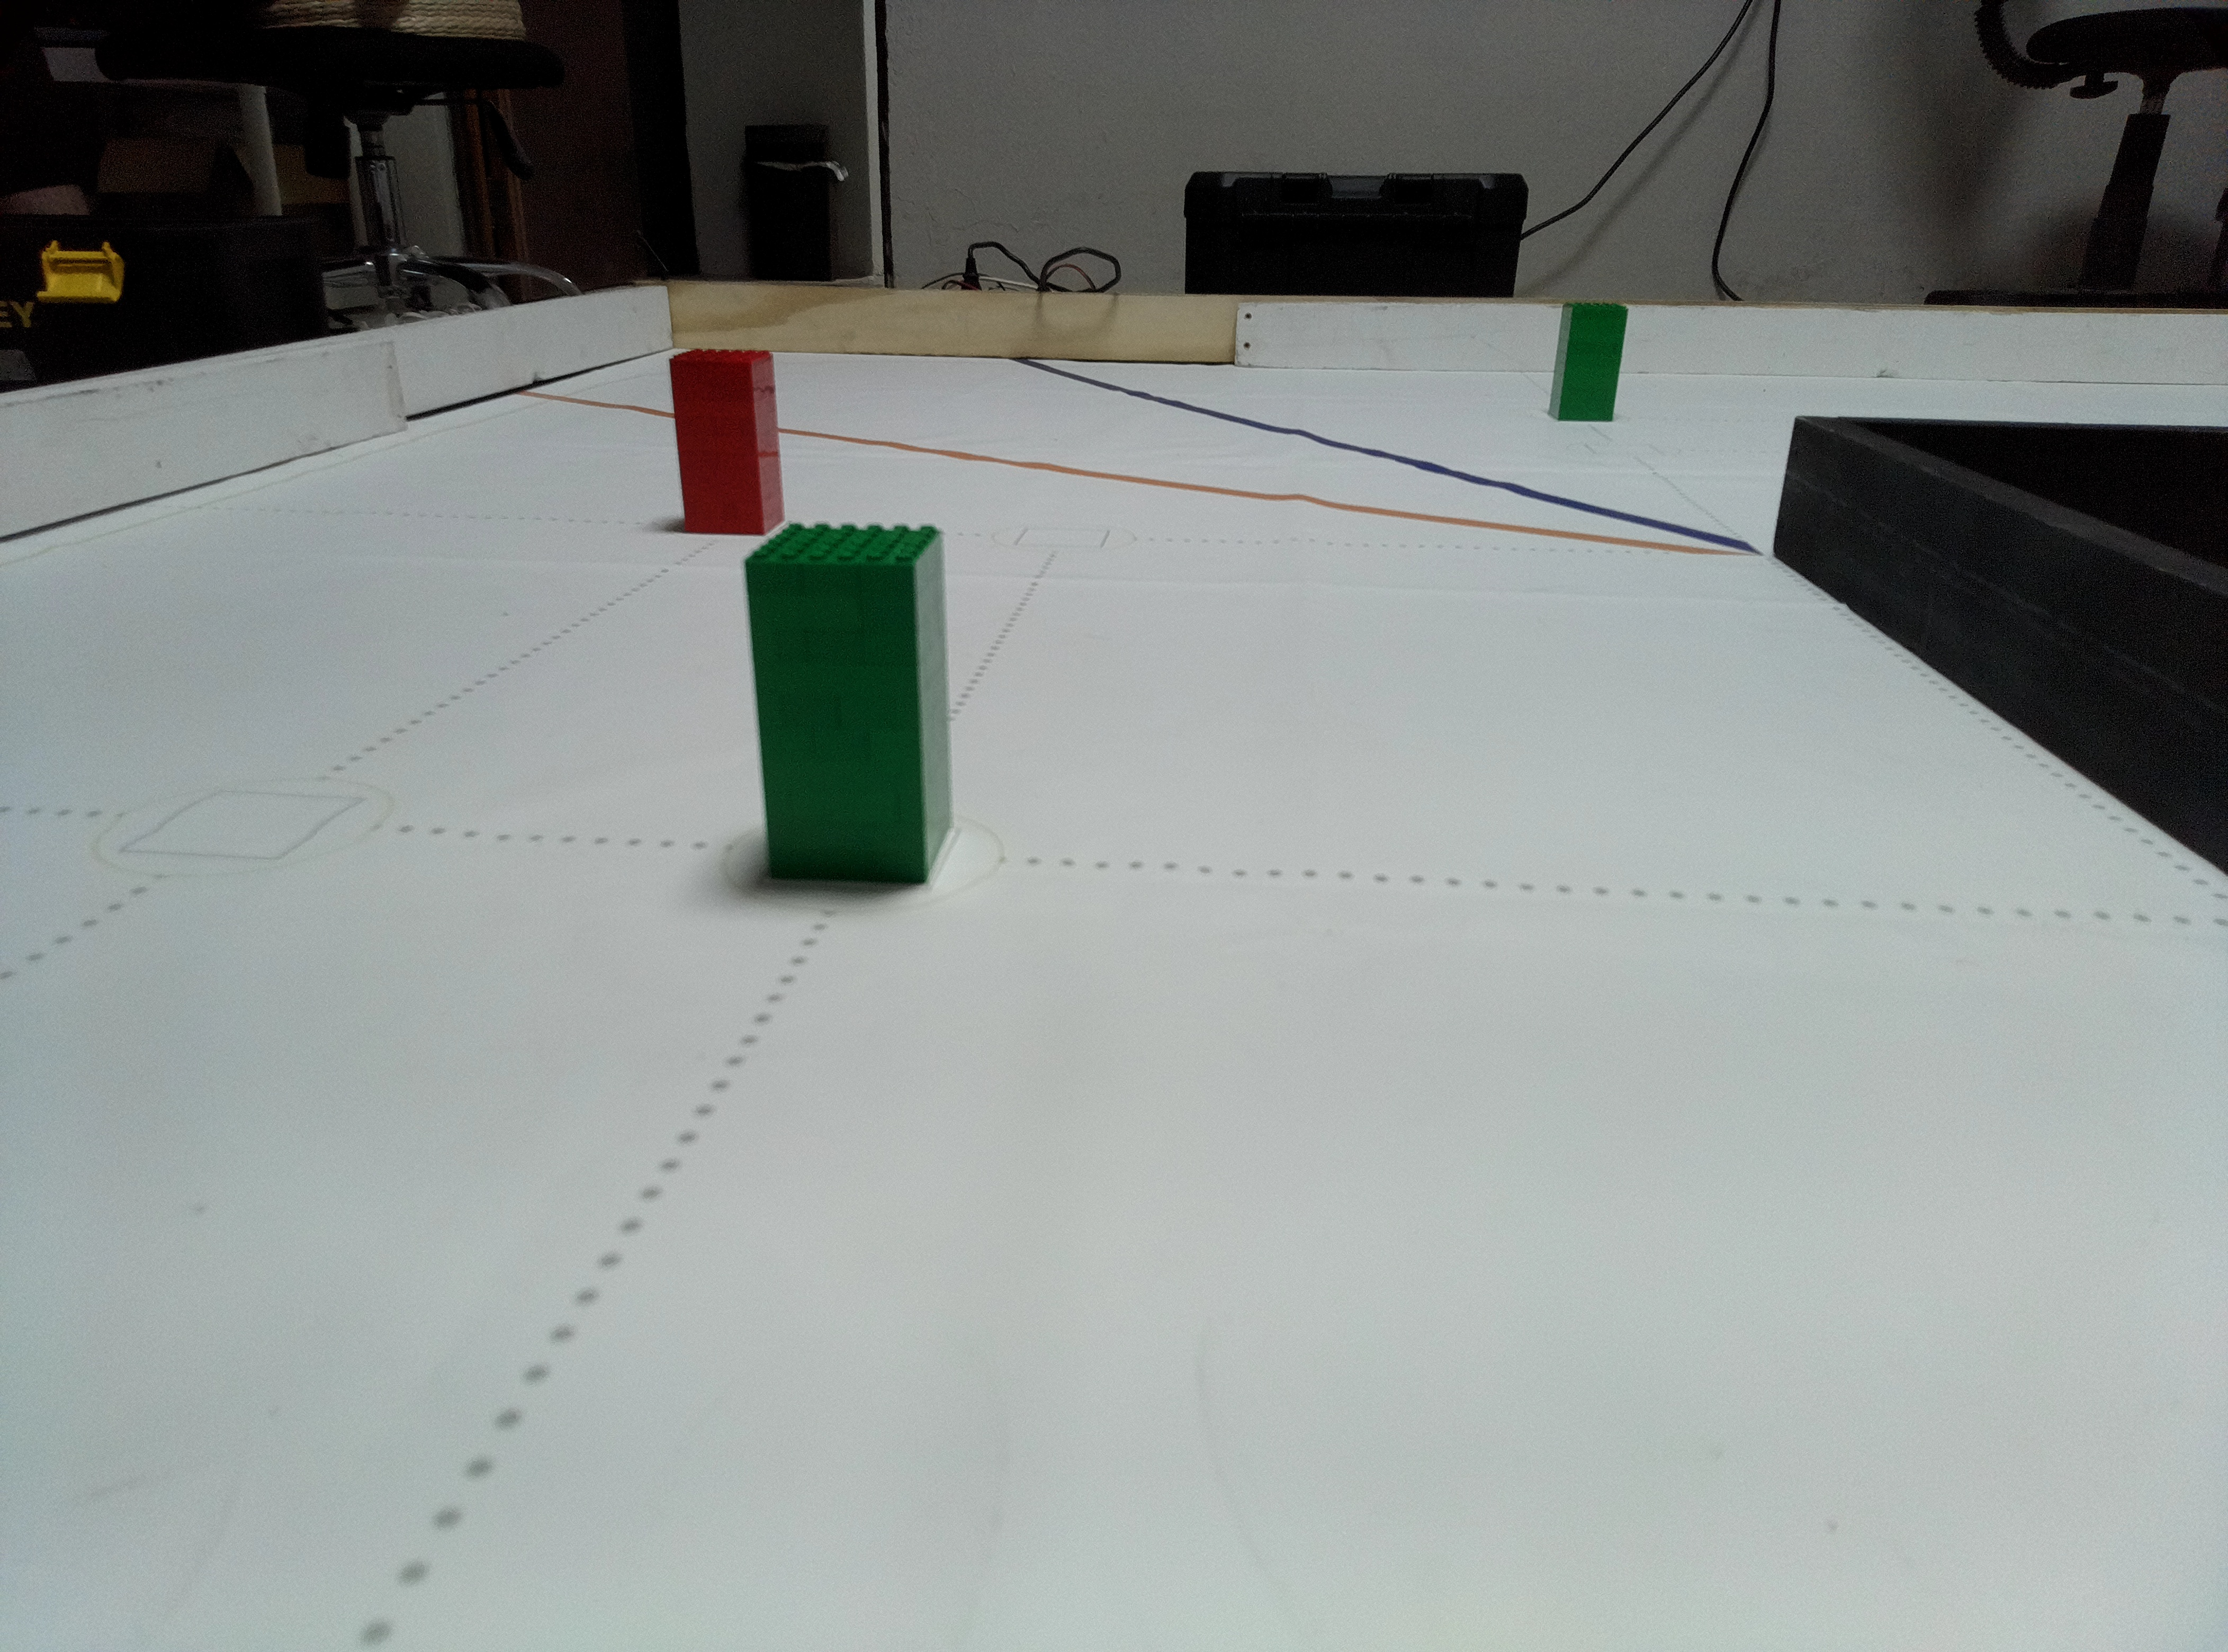greenbox: (744, 514, 953, 894), (1546, 300, 1631, 423)
redbox: (668, 347, 786, 540)
